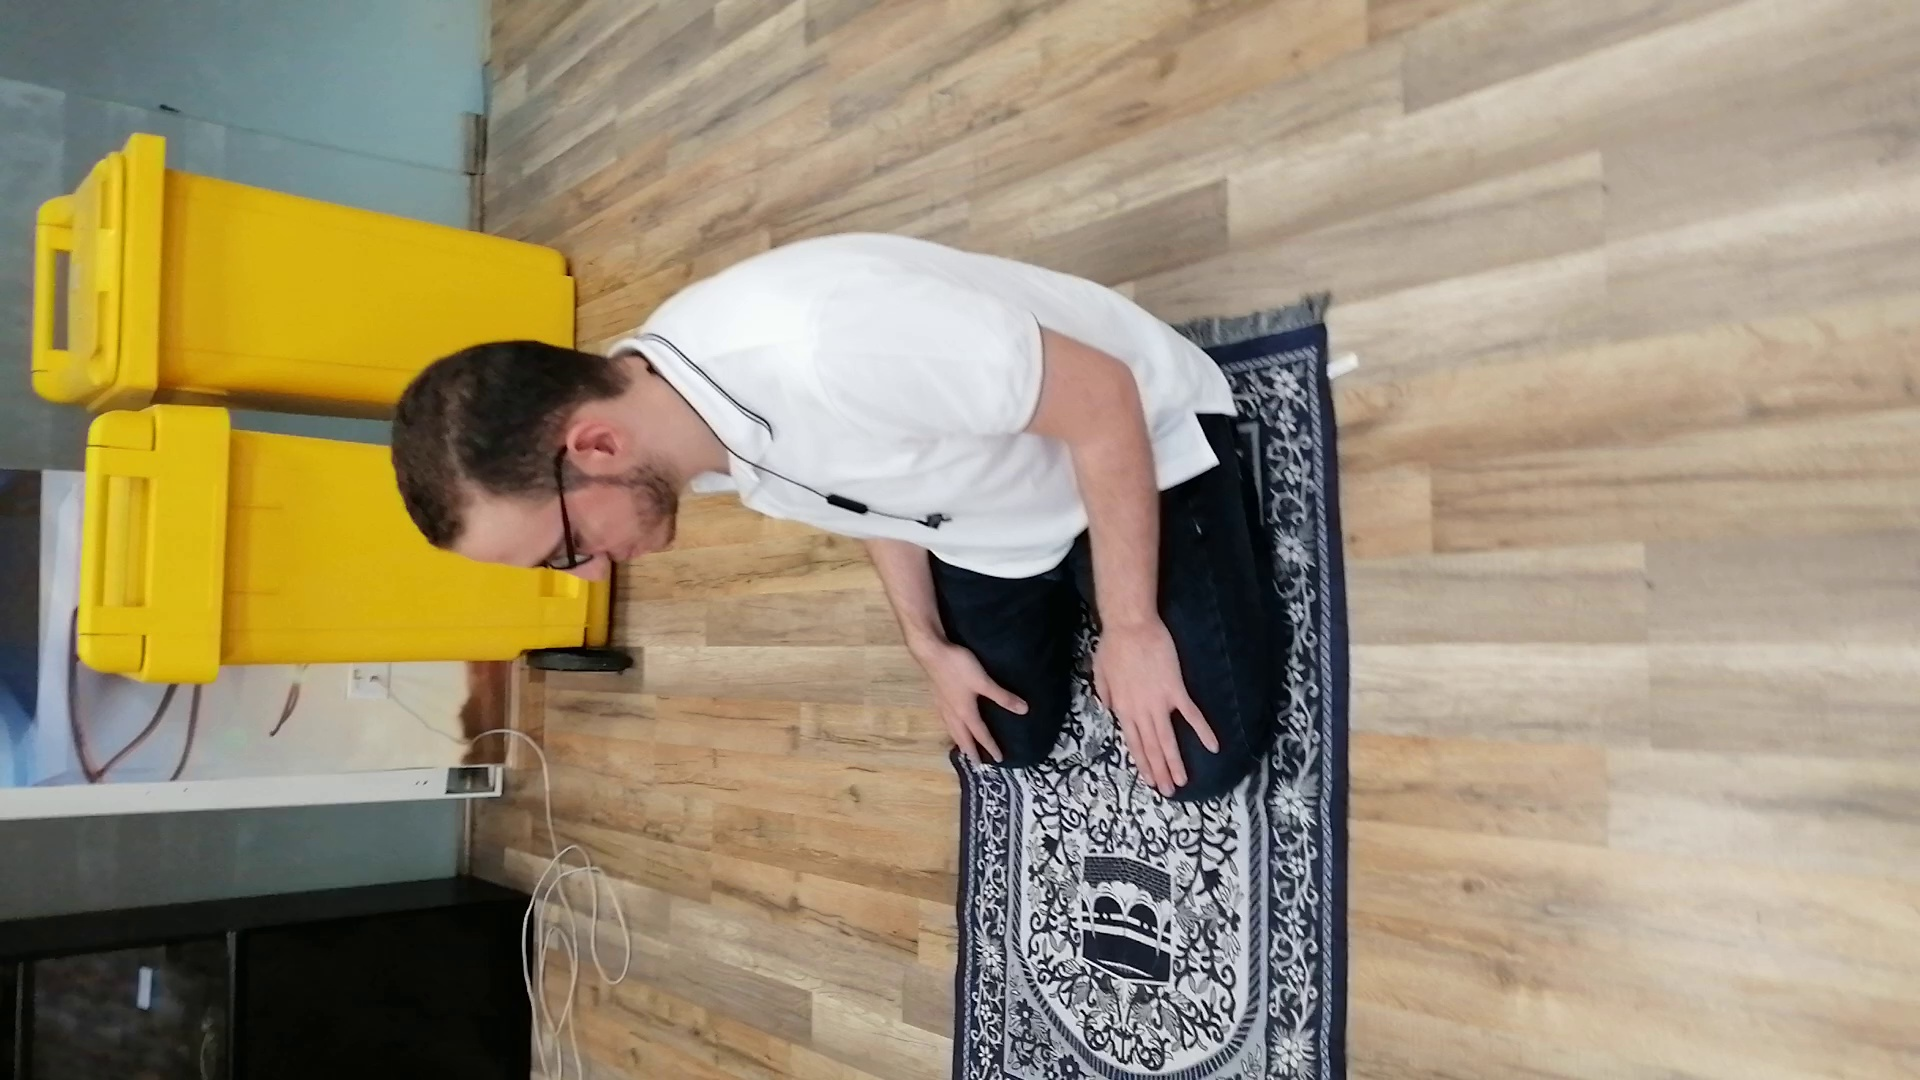sitting: (375, 220, 1308, 807)
